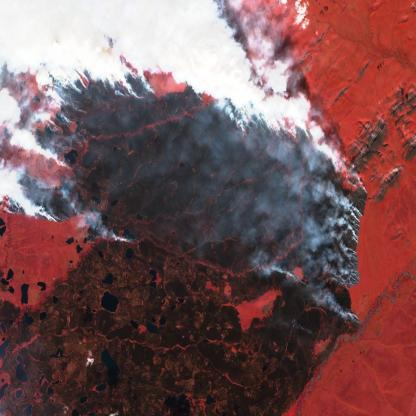fire: (0, 41, 416, 341)
